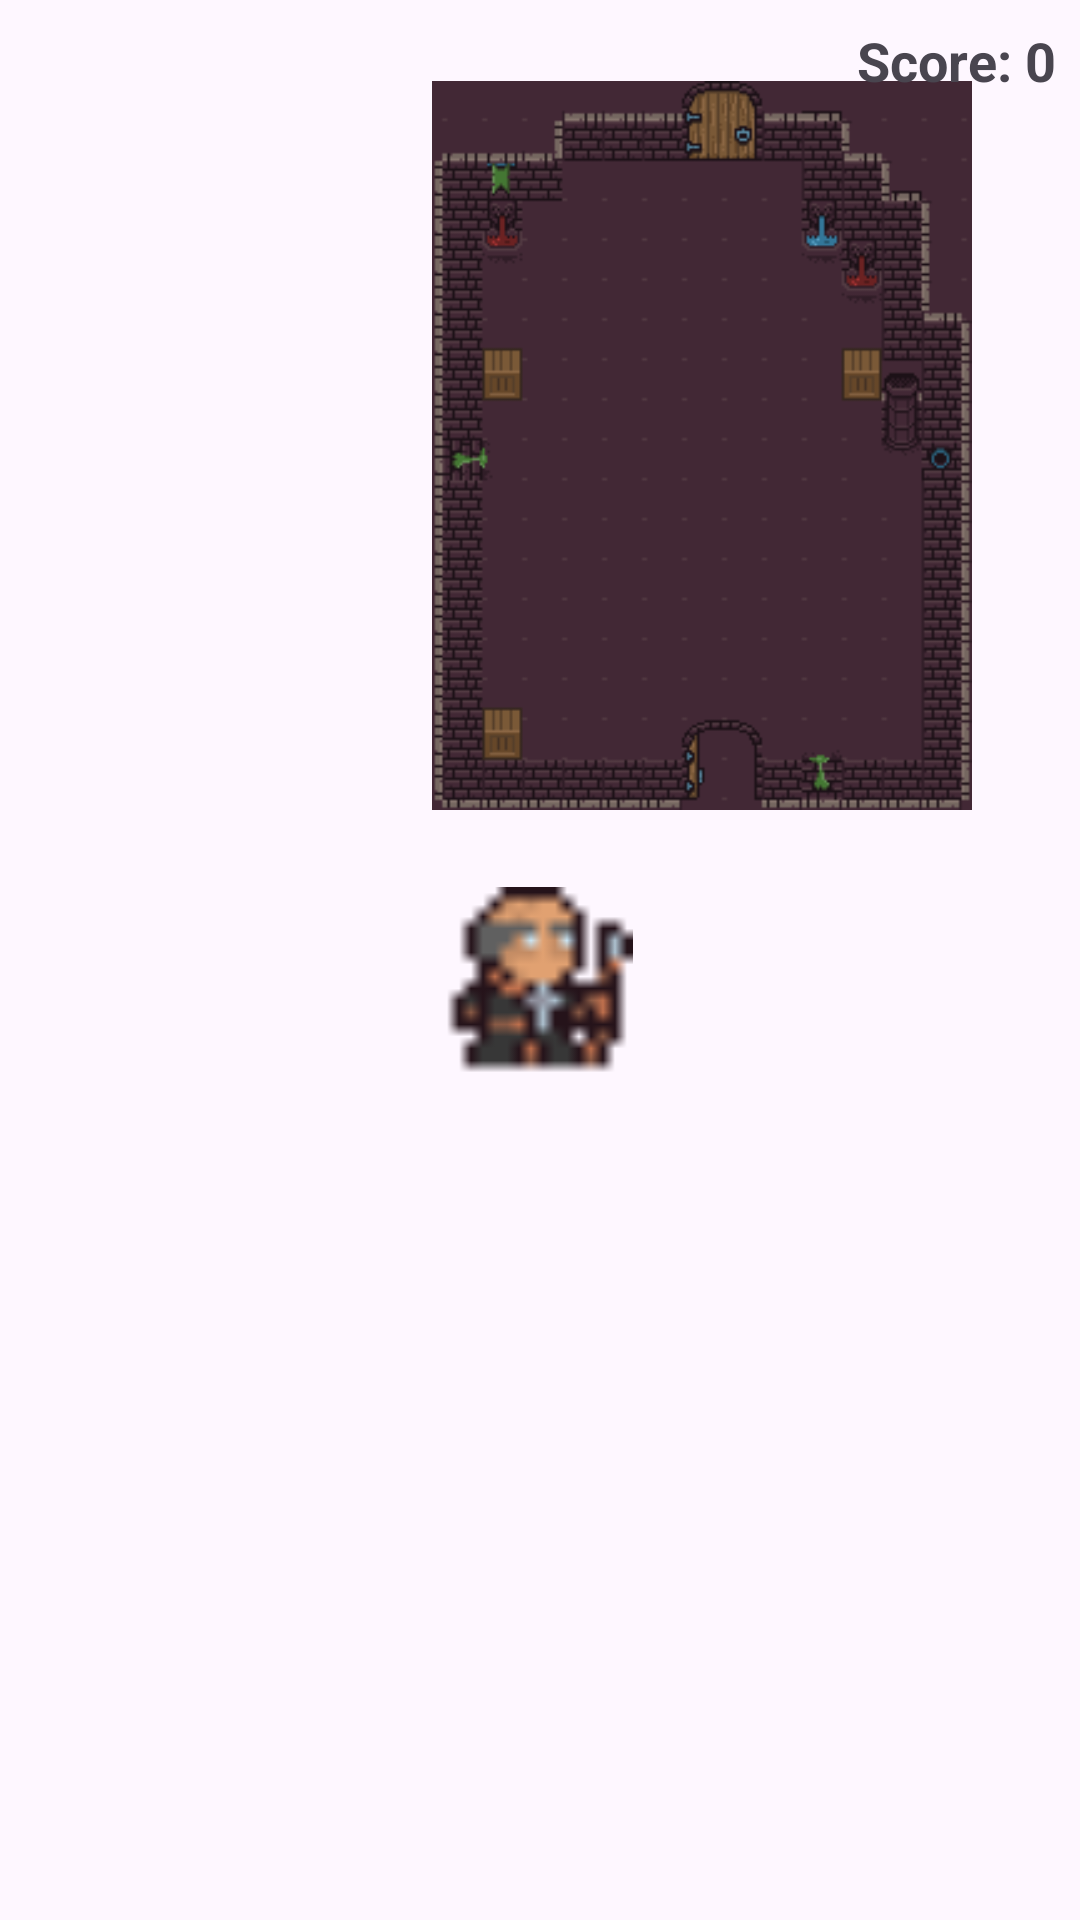

Icon bounding boxes for this 1080 x 1920 phone screenshot, format Rect(x1, y1, x2, y2):
sprite: Rect(448, 887, 633, 1071)
